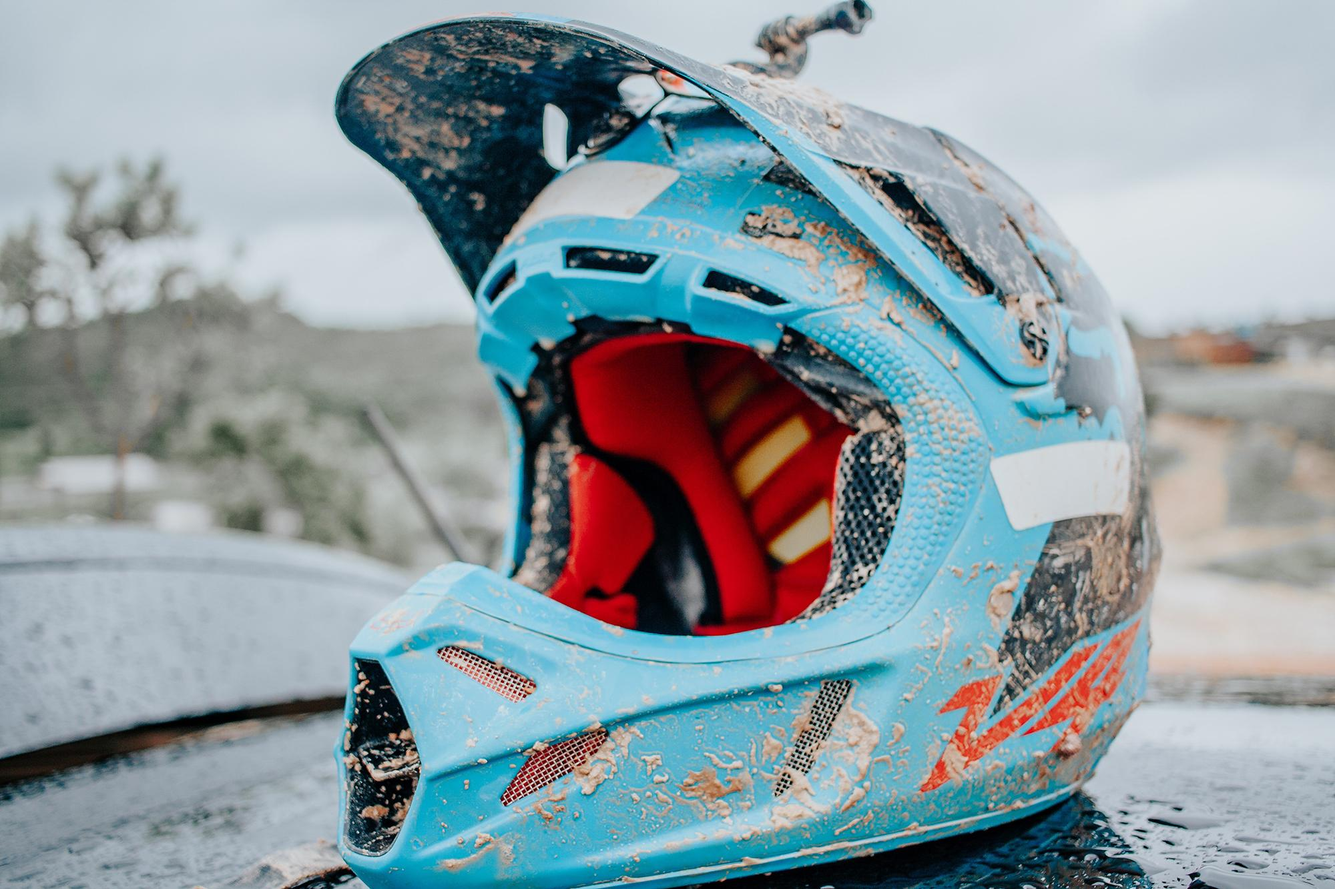helmet: (329, 7, 1167, 889)
